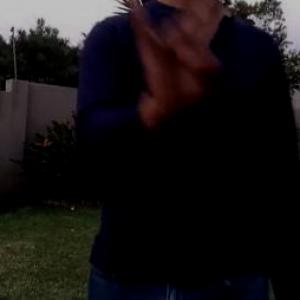takeoff-hand: (124, 0, 235, 133)
